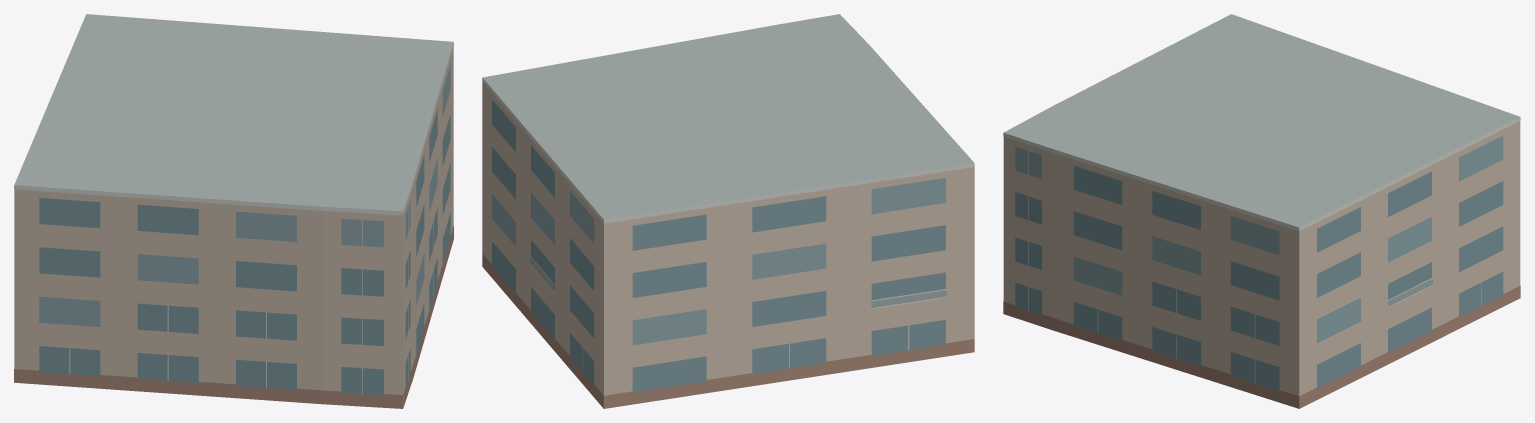
The model's file is survey-upis-32842077.glb.
The picture shows the model from 3 angles, left to right: view 1: azimuth 30°, elevation 25°; view 2: azimuth 150°, elevation 25°; view 3: azimuth 270°, elevation 25°; orthographic projection. The views are drawn at different scales.
Visible parts, largest first — view 1: survey-upis-32842077.tmp; view 2: survey-upis-32842077.tmp; view 3: survey-upis-32842077.tmp.
Boxes of the visible parts, bbox=[...] form: survey-upis-32842077.tmp: bbox=[14, 14, 453, 408]; survey-upis-32842077.tmp: bbox=[482, 14, 974, 408]; survey-upis-32842077.tmp: bbox=[1003, 14, 1520, 408].
Bounding box in the file's own units: 29.06 × 11.5 × 29.72.
